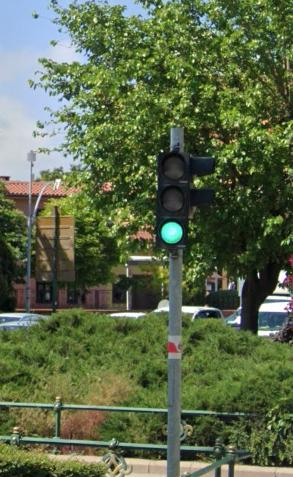greenlight: (156, 151, 188, 251)
